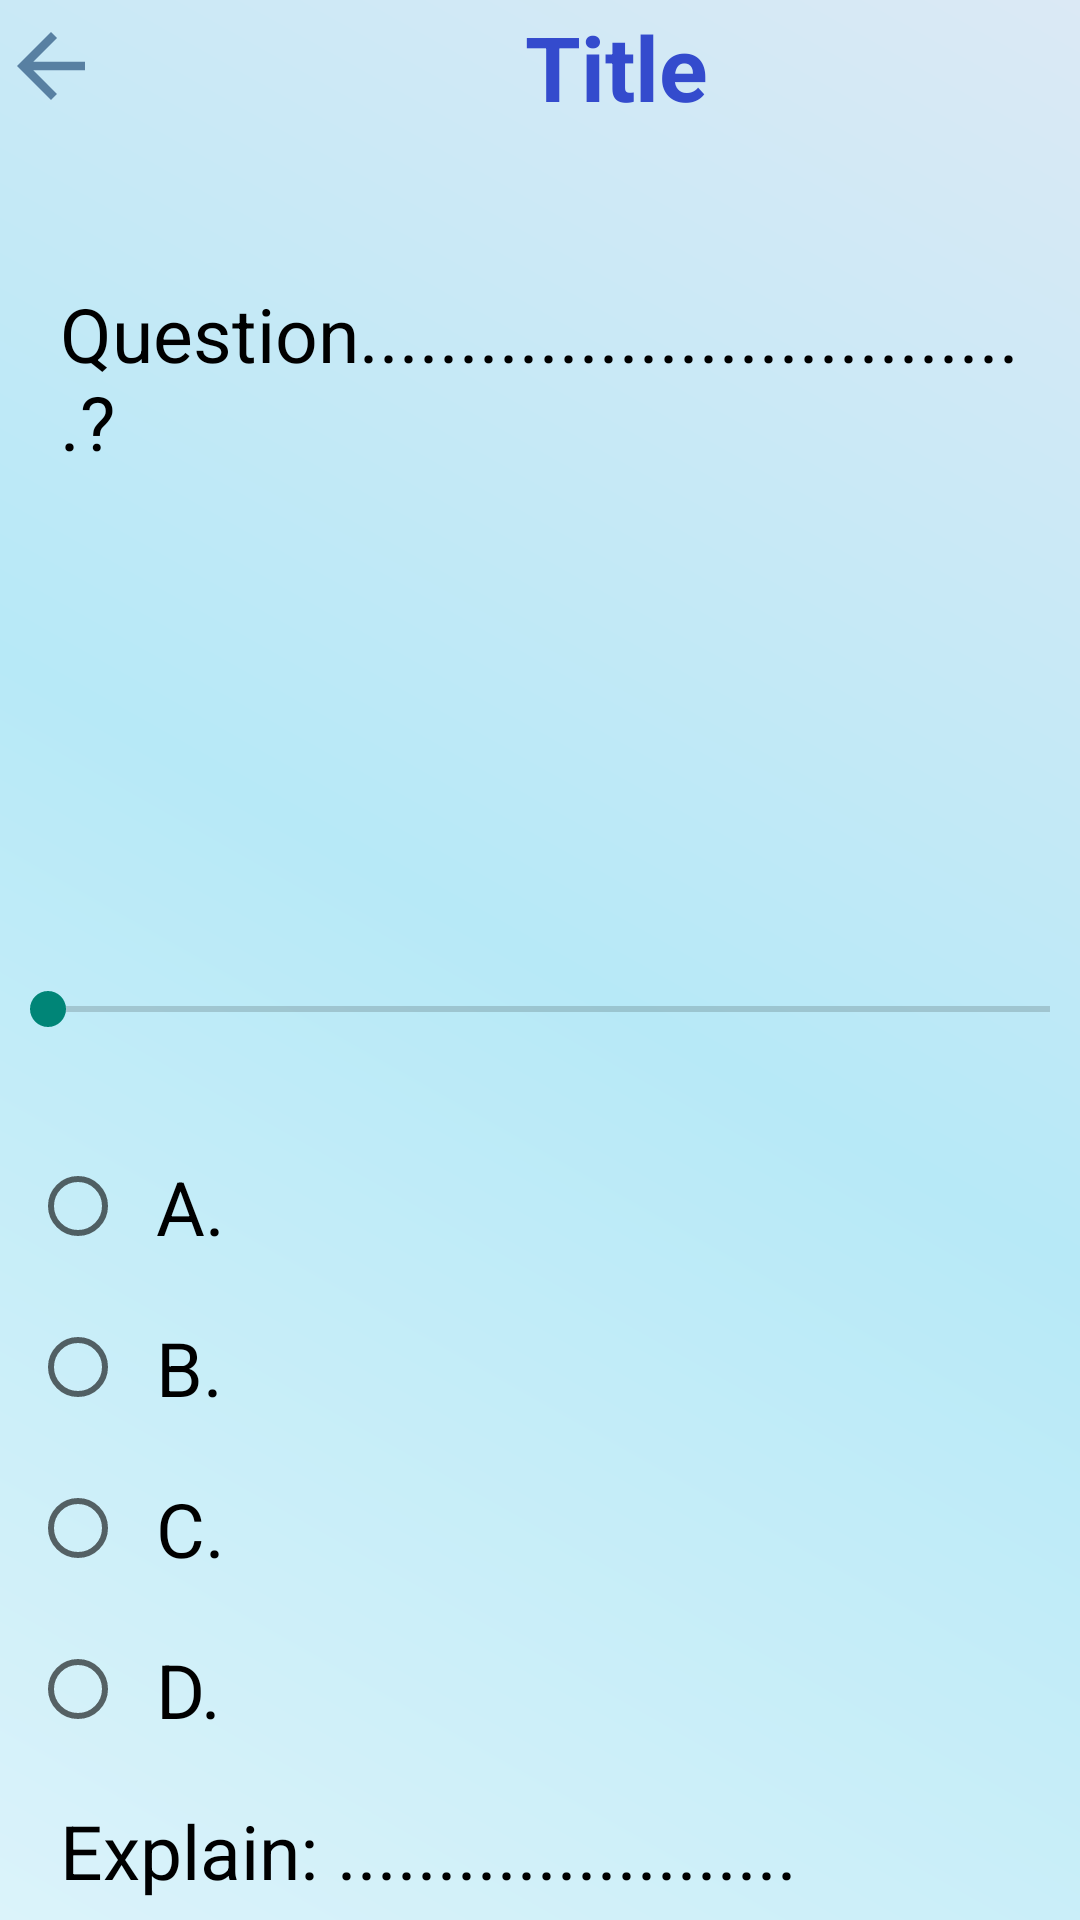

Named icons in this screenshot (1080*1920) and their centers, (x=x, y=y):
back: (x=51, y=66)
